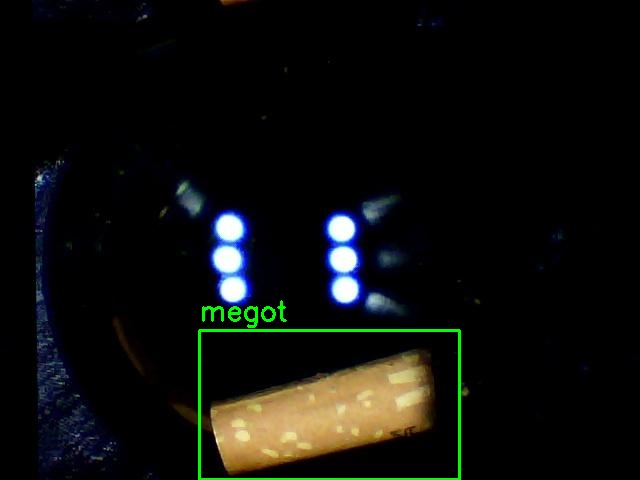megot: (199, 330, 459, 479)
